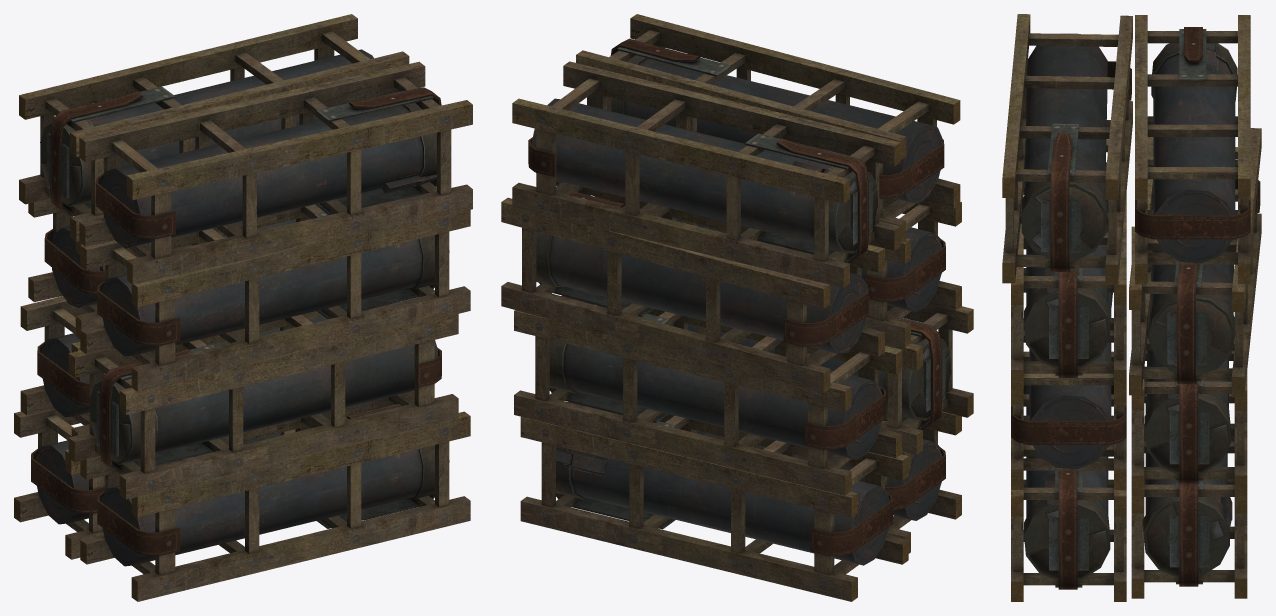
The model's file is VV_ArtyShellCrateStack.fbx.
The picture shows the model from 3 angles, left to right: view 1: azimuth 30°, elevation 25°; view 2: azimuth 150°, elevation 25°; view 3: azimuth 270°, elevation 25°; orthographic projection.
Visible parts, largest first — view 1: VV_ArtyShellCrateStack; view 2: VV_ArtyShellCrateStack; view 3: VV_ArtyShellCrateStack.
Boxes of the visible parts, x1=… form: VV_ArtyShellCrateStack: x1=14, y1=14, x2=472, y2=601; VV_ArtyShellCrateStack: x1=501, y1=14, x2=973, y2=601; VV_ArtyShellCrateStack: x1=1002, y1=14, x2=1261, y2=601.
Size of the model in its own units: 162 by 182 by 101.
Materials: 1 (1 with a texture image).
